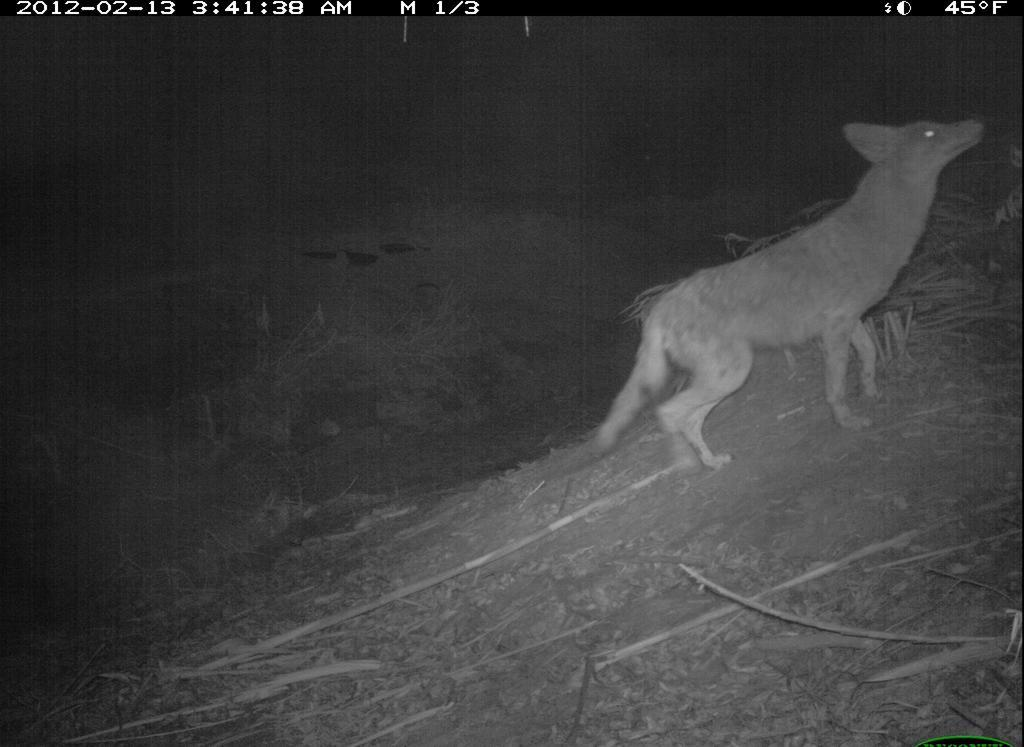coyote: (573, 113, 996, 472)
